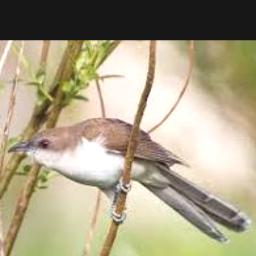Cuckoo: (8, 117, 253, 244)
